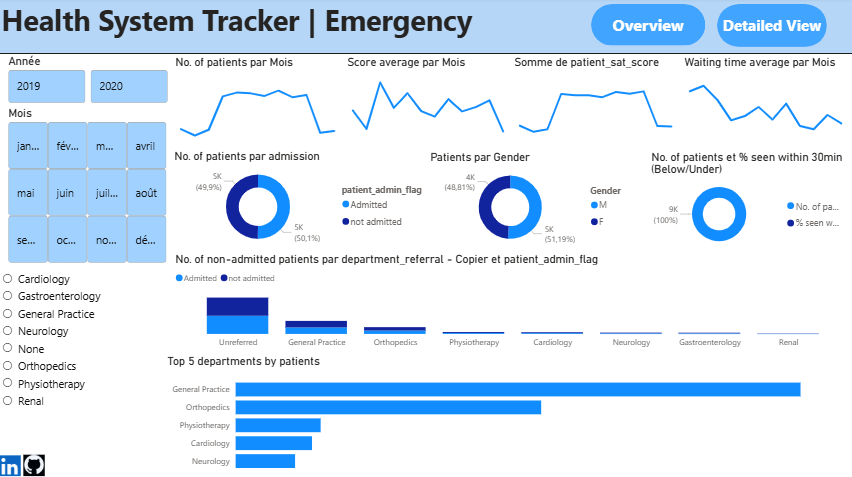

What the dashboard file says about the page in this screenshot:
{"tool":"powerbi","page":{"name":"Overview","canvas":[1280,720],"ordinal":1},"visuals":[{"type":"textbox","box":[0,0,1280.2,85.1],"z":0},{"type":"actionButton","box":[885.3,11.2,171,62.3],"z":1000},{"type":"actionButton","box":[1074,10.5,164.3,64.2],"z":2000},{"type":"advancedSlicerVisual","fields":{"Values":["Dim_Date.Date.Variation.Hiérarchie de dates.Année"]},"box":[11.2,84.7,249.3,78.3],"z":3000},{"type":"advancedSlicerVisual","fields":{"Values":["Dim_Date.Date.Variation.Hiérarchie de dates.Mois"]},"box":[11.2,163,249.3,239.7],"z":4000},{"type":"listSlicer","fields":{"Values":["Hospital ER.department_referral"]},"box":[0,402.7,247.7,220.5],"z":5000},{"type":"lineChart","fields":{"Y":["Hospital ER.No. of patients"],"Category":["Dim_Date.Date.Variation.Hiérarchie de dates.Mois"]},"box":[260.5,86.3,255.7,129.4],"z":6000},{"type":"lineChart","fields":{"Y":["Hospital ER.Score average"],"Category":["Dim_Date.Date.Variation.Hiérarchie de dates.Mois"]},"box":[516.2,86.3,250.9,129.4],"z":7000},{"type":"lineChart","title":"Somme de patient_sat_score ","fields":{"Category":["Dim_Date.Date.Variation.Hiérarchie de dates.Mois"],"Y":["Hospital ER.Referred Patients"]},"box":[767,86.3,252.5,140.6],"z":8000},{"type":"lineChart","fields":{"Y":["Hospital ER.Waiting time average"],"Category":["Dim_Date.Date.Variation.Hiérarchie de dates.Mois"]},"box":[1019.5,86.3,252.5,132.6],"z":9000},{"type":"donutChart","title":"No. of patients par admission","fields":{"Y":["Hospital ER.No. of patients"],"Category":["Hospital ER.patient_admin_flag"]},"box":[258.9,226.9,381.9,153.4],"z":10000},{"type":"donutChart","fields":{"Y":["Hospital ER.No. of patients"],"Category":["Hospital ER.patient_gender"]},"box":[640.8,228.5,314.8,151.8],"z":11000},{"type":"columnChart","fields":{"Category":["Hospital ER.department_referral - Copier"],"Series":["Hospital ER.patient_admin_flag"],"Y":["Hospital ER.No. of non-admitted patients"]},"box":[259.9,380.9,1020.2,152.4],"z":12000},{"type":"barChart","title":"Top 5 departments by patients","fields":{"Category":["Hospital ER.department_referral - Copier"],"Y":["Hospital ER.No. of patients"]},"box":[248,533.3,1032.2,186.7],"z":13000},{"type":"donutChart","fields":{"Y":["Hospital ER.No. of patients","Hospital ER.% seen within 30min (Below/Under)"]},"box":[971.6,228.5,300.4,153.4],"z":14000},{"type":"actionButton","box":[0,680.3,35.3,40.3],"z":15000},{"type":"actionButton","box":[35.3,680.3,37,40.3],"z":16000}]}

Visuals, with their boxes in screenshot pixels (x1, y1, x2, y2), scaled from the page's 1280x720 canvas onto the 852x477 screenshot:
textbox: (left=0, top=0, right=851, bottom=56)
actionButton: (left=589, top=7, right=703, bottom=49)
actionButton: (left=715, top=7, right=824, bottom=49)
advancedSlicerVisual - Dim_Date.Date.Variation.Hiérarchie de dates.Année: (left=7, top=56, right=173, bottom=108)
advancedSlicerVisual - Dim_Date.Date.Variation.Hiérarchie de dates.Mois: (left=7, top=108, right=173, bottom=267)
listSlicer - Hospital ER.department_referral: (left=0, top=267, right=165, bottom=413)
lineChart - Hospital ER.No. of patients x Dim_Date.Date.Variation.Hiérarchie de dates.Mois: (left=173, top=57, right=344, bottom=143)
lineChart - Hospital ER.Score average x Dim_Date.Date.Variation.Hiérarchie de dates.Mois: (left=344, top=57, right=511, bottom=143)
"Somme de patient_sat_score " lineChart: (left=511, top=57, right=679, bottom=150)
lineChart - Hospital ER.Waiting time average x Dim_Date.Date.Variation.Hiérarchie de dates.Mois: (left=679, top=57, right=847, bottom=145)
"No. of patients par admission" donutChart: (left=172, top=150, right=427, bottom=252)
donutChart - Hospital ER.No. of patients x Hospital ER.patient_gender: (left=427, top=151, right=636, bottom=252)
columnChart - Hospital ER.department_referral - Copier x Hospital ER.patient_admin_flag: (left=173, top=252, right=851, bottom=353)
"Top 5 departments by patients" barChart: (left=165, top=353, right=851, bottom=476)
donutChart - Hospital ER.No. of patients x Hospital ER.% seen within 30min (Below/Under): (left=647, top=151, right=847, bottom=253)
actionButton: (left=0, top=451, right=23, bottom=476)
actionButton: (left=23, top=451, right=48, bottom=476)
